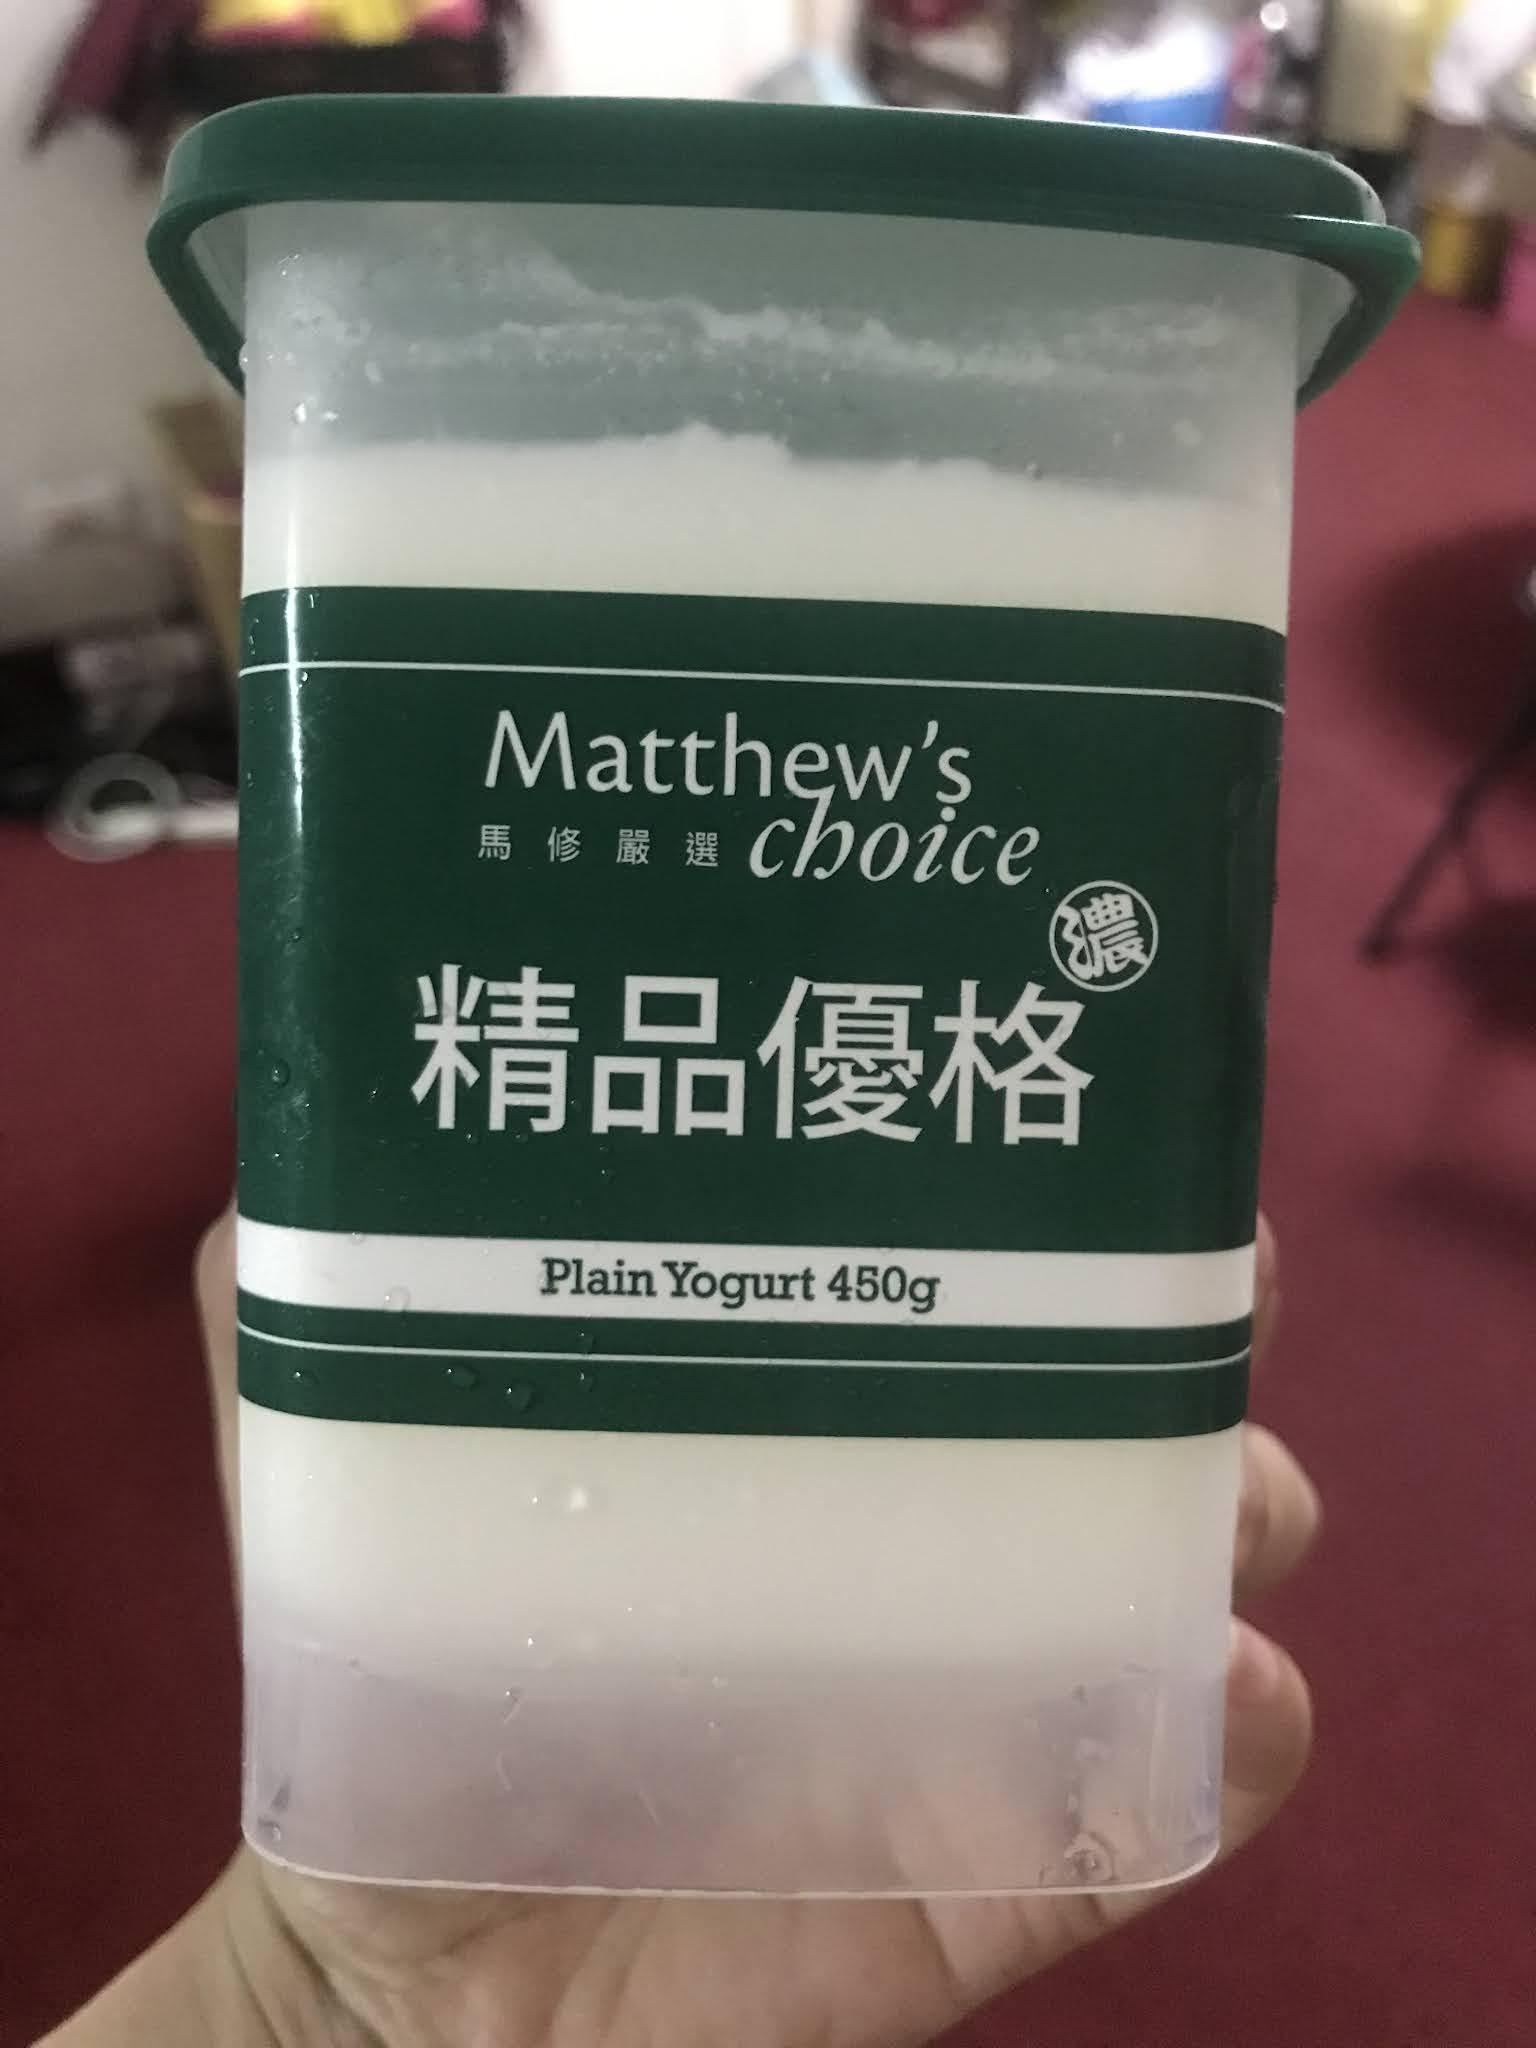plastic: (64, 101, 1411, 2047)
